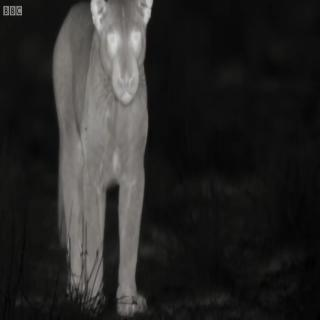Leopard: (44, 0, 178, 304)
